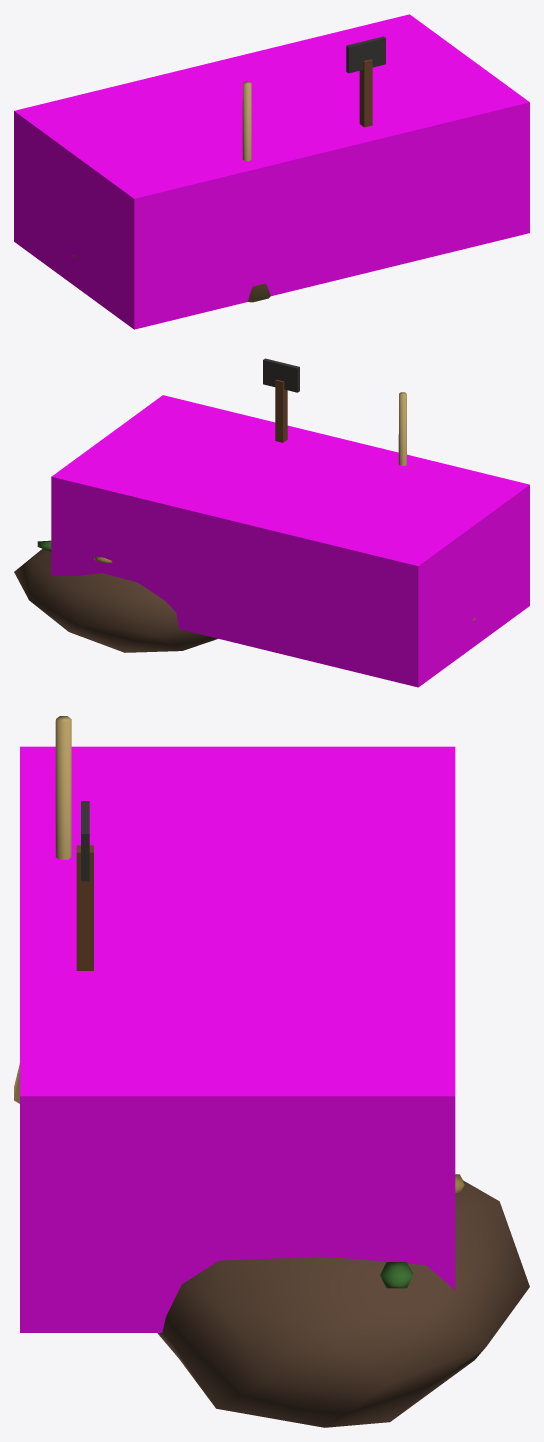
Rendered from PRP_Garden_Tools_A.glb.
3 views of the same model, one above another, from view 1: azimuth 30°, elevation 25°; view 2: azimuth 150°, elevation 25°; view 3: azimuth 270°, elevation 25° (orthographic). The views are drawn at different scales.
Parts seen in each view (by area): view 1: COL_Group, PRP_Garden_Tools_A_Mesh; view 2: COL_Group, PRP_Garden_Tools_A_Mesh; view 3: COL_Group, PRP_Garden_Tools_A_Mesh.
Boxes of the visible parts, <box> form: COL_Group: <box>14,14,529,329</box>; PRP_Garden_Tools_A_Mesh: <box>72,36,385,302</box>; COL_Group: <box>51,395,529,687</box>; PRP_Garden_Tools_A_Mesh: <box>14,358,475,652</box>; COL_Group: <box>20,746,455,1332</box>; PRP_Garden_Tools_A_Mesh: <box>14,716,529,1427</box>.
Size of the model in its own units: 2.19 by 1.23 by 1.19.
